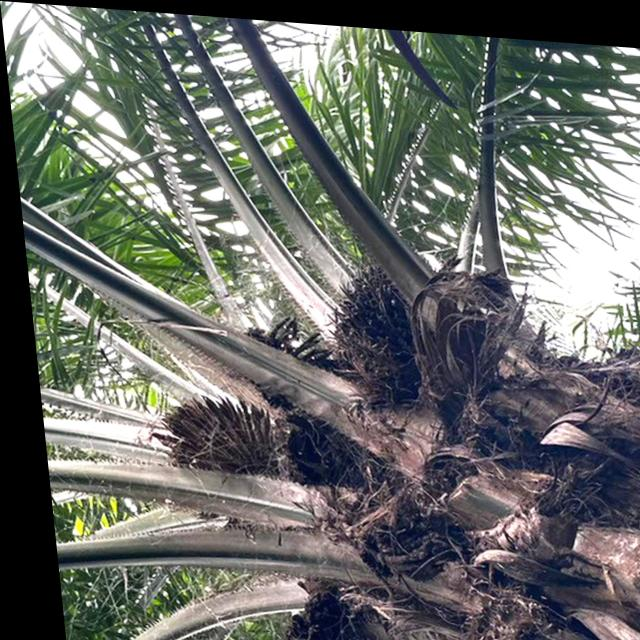almost: (317, 249, 423, 392)
